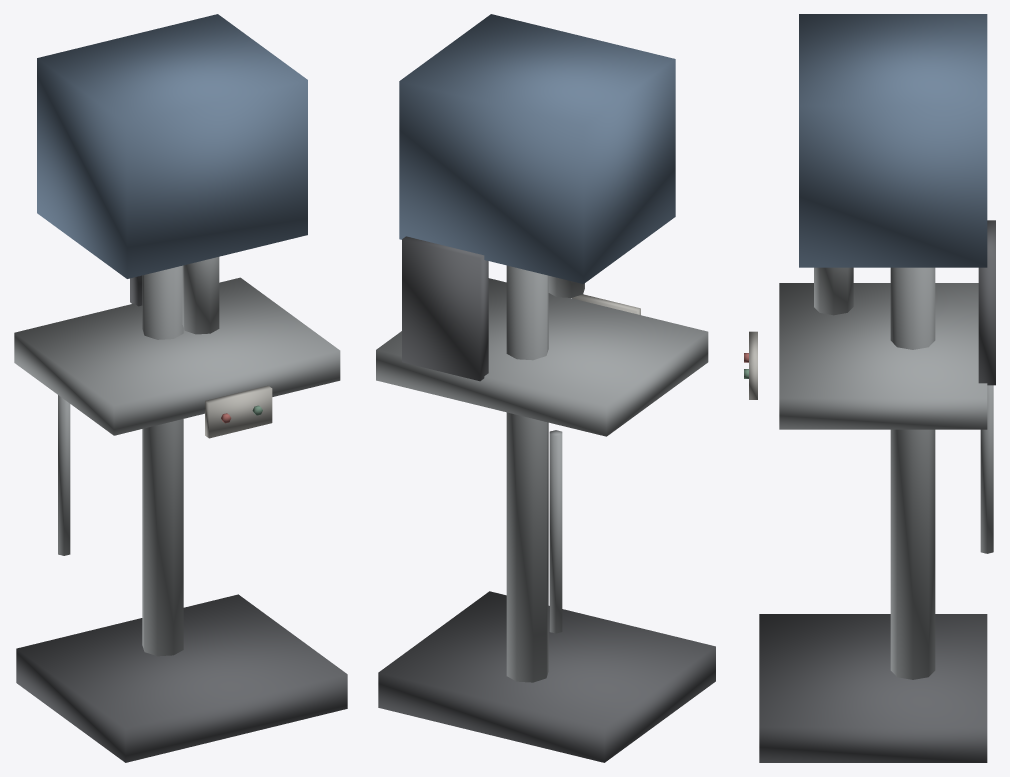
File: drill_press__service.glb
3 renders of one model, left to right at view 1: azimuth 30°, elevation 25°; view 2: azimuth 150°, elevation 25°; view 3: azimuth 270°, elevation 25°, orthographic. The views are drawn at different scales.
Parts seen in each view (by area): view 1: world; view 2: world; view 3: world.
Part boxes in pixels (x1=…): world: x1=14, y1=14, x2=347, y2=762; world: x1=376, y1=14, x2=715, y2=762; world: x1=744, y1=14, x2=995, y2=762.
Size of the model in its own units: 0.55 by 1.44 by 0.5085.
